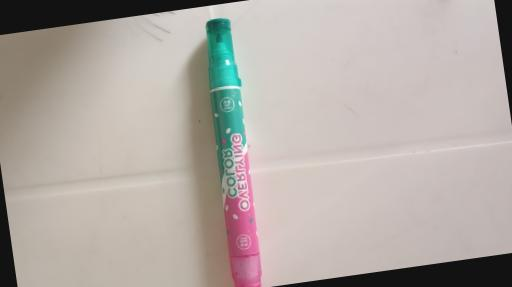Highlighter: (196, 16, 267, 287)
